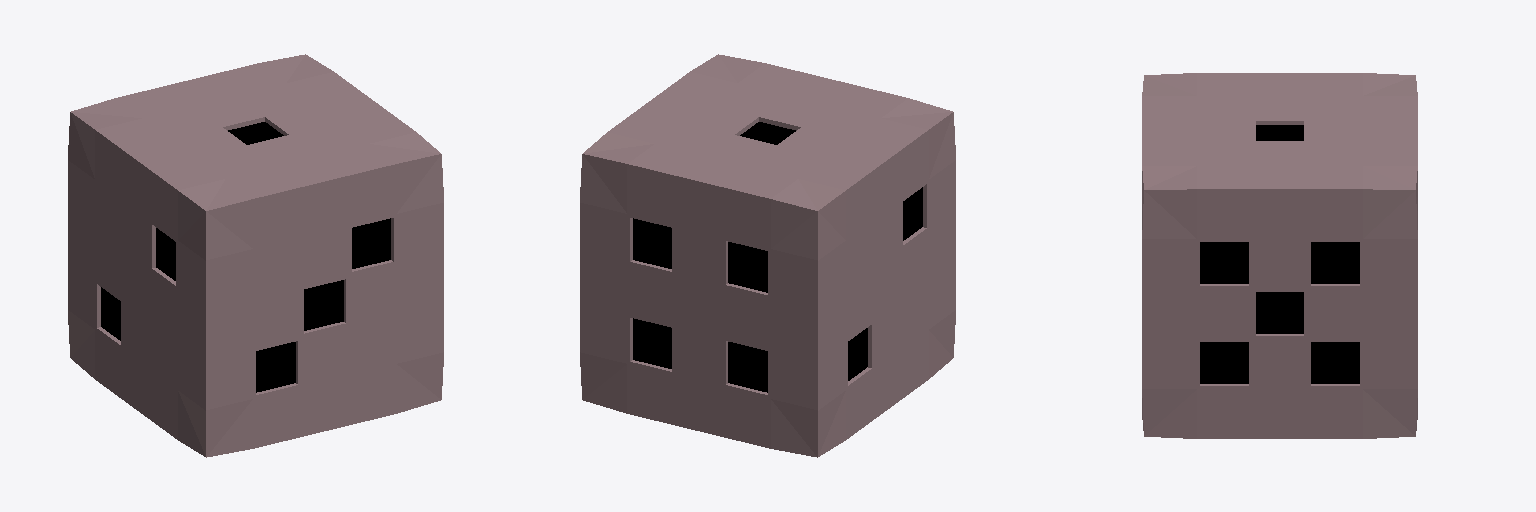
Rendered from Dice.obj.
The picture shows the model from 3 angles: view 1: azimuth 30°, elevation 25°; view 2: azimuth 150°, elevation 25°; view 3: azimuth 270°, elevation 25°; orthographic projection.
Parts seen in each view (by area): view 1: Cube_Cube.003; view 2: Cube_Cube.003; view 3: Cube_Cube.003.
Part boxes in pixels (left/top/right/bottom): Cube_Cube.003: left=68, top=54, right=443, bottom=457; Cube_Cube.003: left=580, top=54, right=955, bottom=457; Cube_Cube.003: left=1142, top=73, right=1417, bottom=438.
Bounding box in the file's own units: 1 × 1 × 1.